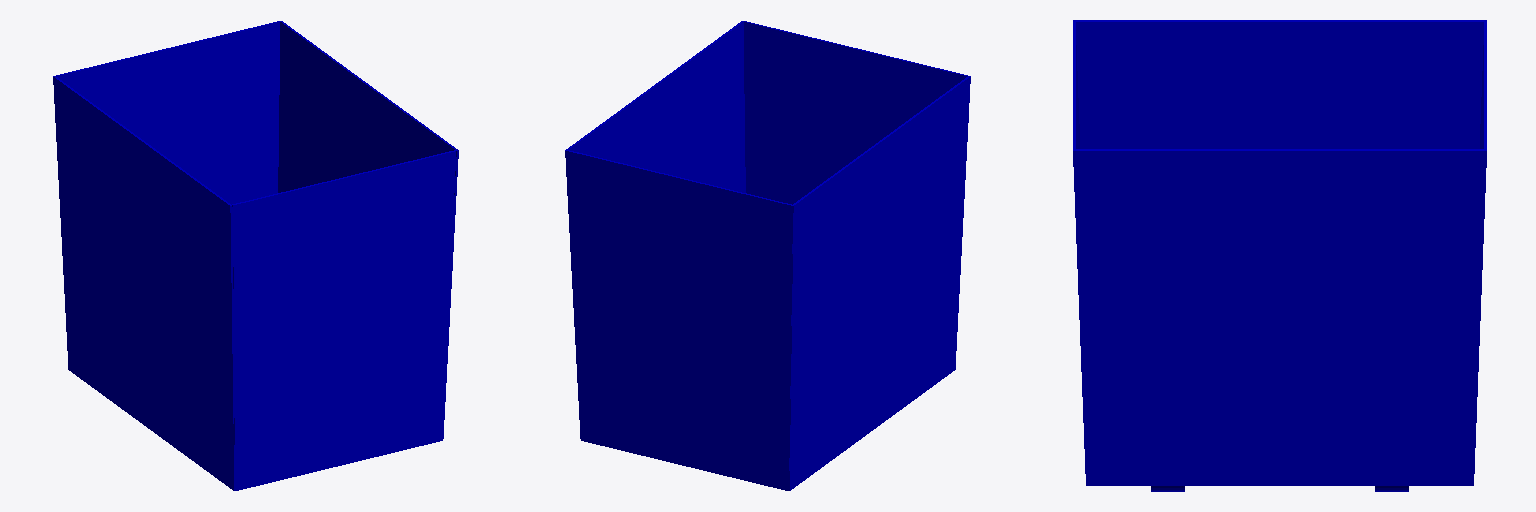
robot.urdf — blue_bin:
<?xml version="1.0"?>
<robot name="blue_bin">
<link name="blue_bin">
    <visual>
      <geometry>
        <mesh filename="package://adream_simulation/models/cad_models/obj/blue_bin.obj"/>
      </geometry>
      <origin rpy="1.57075 0 0" xyz="0 0 0"/>
      <material name="blue">
        <color rgba="0 0 .8 1"/>
      </material>
    </visual>
    <collision>
      <geometry>
      <box size="0.285 0.375 0.06"/> <!-- bottom -->
      </geometry>
      <origin rpy="0 0 0" xyz="0 0 -0.15"/>
      <contact_coefficients mu="1000.0" kp="0.00" kd="0.0"/>
    </collision>
    <collision>
      <geometry>
      <box size="0.27 0.36 0.02"/> <!-- left -->
      </geometry>
      <origin rpy="1.57075 0 0" xyz="0 0.175 0"/>
      <contact_coefficients mu="1000.0" kp="0.00" kd="0.0"/>
    </collision>
    <collision>
      <geometry>
      <box size="0.27 0.36 0.02"/> <!-- right -->
      </geometry>
      <origin rpy="1.57075 0 0" xyz="0 -0.175 0"/>
      <contact_coefficients mu="1000.0" kp="0.00" kd="0.0"/>
    </collision>
    <collision>
      <geometry>
      <box size="0.365 0.36 0.02"/> <!-- front -->
      </geometry>
      <origin rpy="0 1.57075 0" xyz="-0.13 0 0"/>
      <contact_coefficients mu="1000.0" kp="0.00" kd="0.0"/>
    </collision>
    <collision>
      <geometry>
      <box size="0.365 0.36 0.02"/> <!-- back -->
      </geometry>
      <origin rpy="0 1.57075 0" xyz="0.13 0 0"/>
      <contact_coefficients mu="1000.0" kp="0.00" kd="0.0"/>
    </collision>
    <inertial>
      <mass value="0.7"/>
      <inertia ixx="0.001" ixy="0.0" ixz="0.0"
               iyy="0.001" iyz="0.0"
               izz="0.001"/>
    </inertial>
</link>

</robot>

--- What the picture shows (computed from the rendered views, not written in the file) ---
Views: 3 orthographic renders of the robot side by side, from view 1: azimuth 30°, elevation 25°; view 2: azimuth 150°, elevation 25°; view 3: azimuth 270°, elevation 25°.
Model blue_bin with 1 links and 0 joints (none), rooted at blue_bin, posed every joint at zero.
Links seen in each view (by area): view 1: blue_bin; view 2: blue_bin; view 3: blue_bin.
Link boxes in pixels (x1,y1,x2,y2): blue_bin: (53, 21, 458, 490); blue_bin: (565, 21, 970, 490); blue_bin: (1073, 20, 1486, 491).
Bounding box of the posed robot: 0.2742 × 0.3692 × 0.3645 m (x, y, z).
Meshes: 1 distinct files referenced, 1 mesh visuals loaded (1 OBJ).